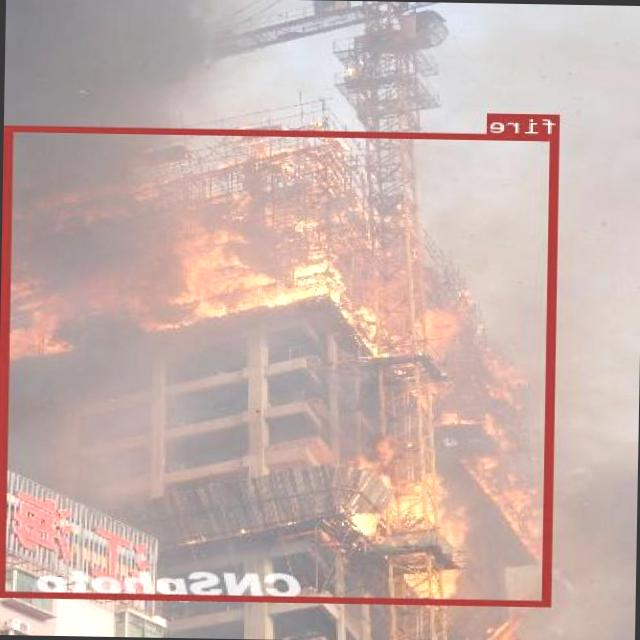fire: (0, 124, 559, 605)
